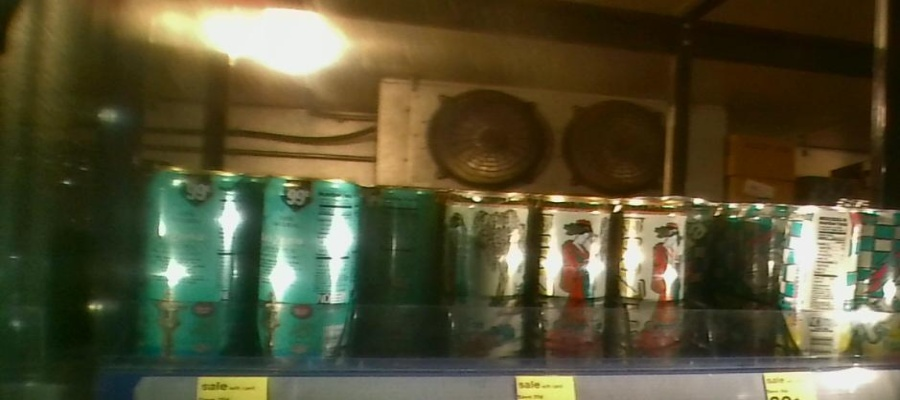bottle: (255, 164, 366, 370), (138, 164, 252, 363), (445, 171, 529, 309), (534, 178, 611, 304), (370, 167, 437, 310), (617, 186, 690, 307), (780, 203, 858, 316)
